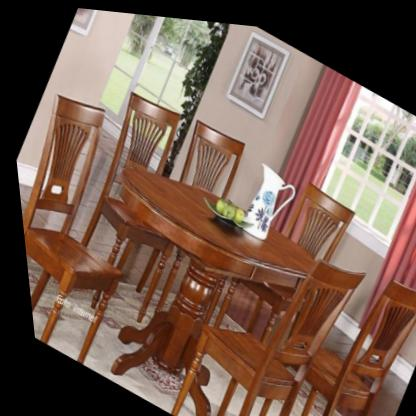Dining Table: (1, 7, 416, 416)
